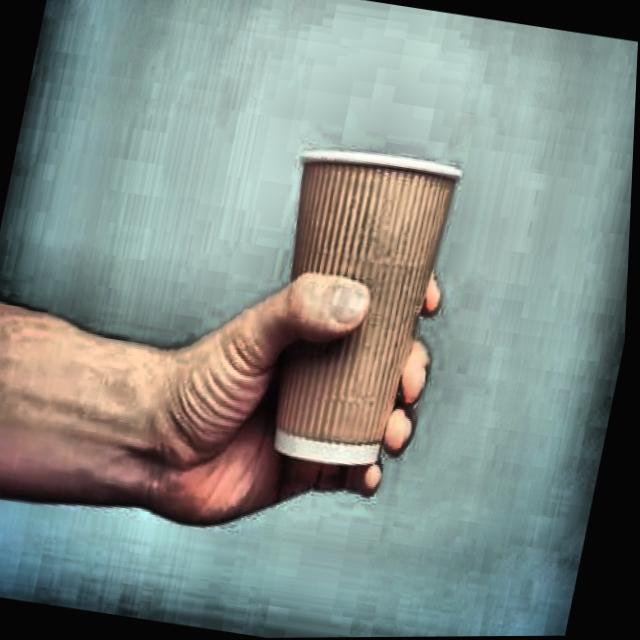Cup: (231, 132, 467, 505)
